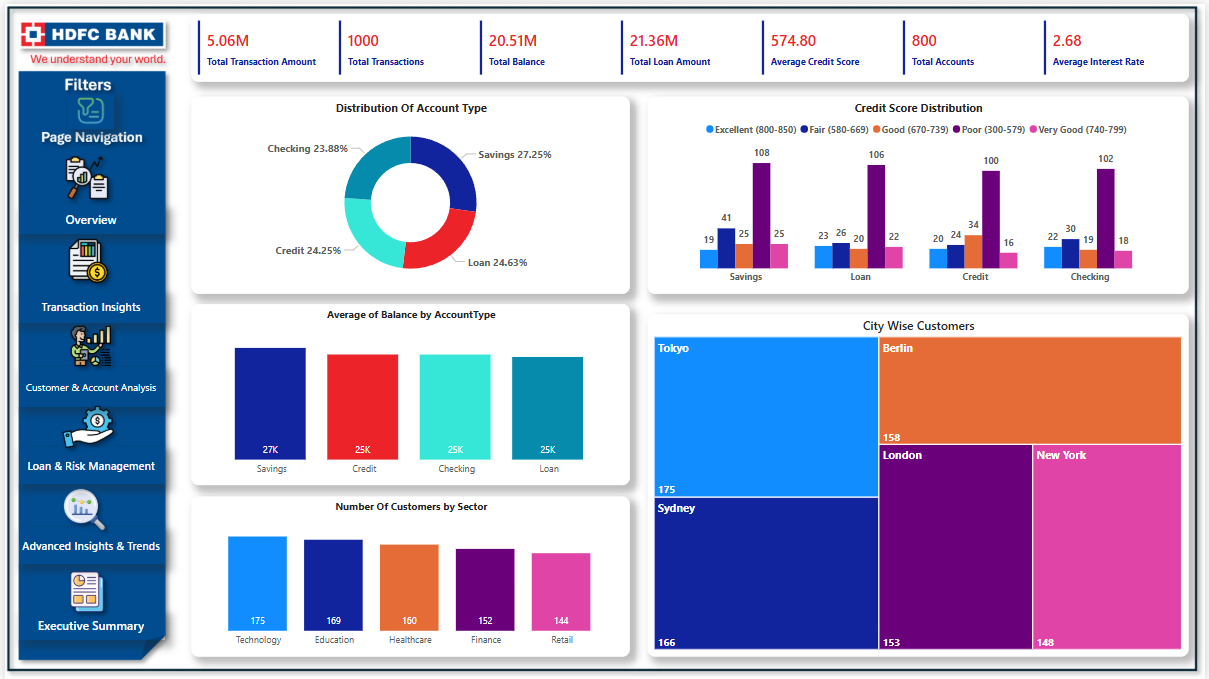

Layout of this report page (visuals, bound fields, positions):
{"tool":"powerbi","page":{"name":"Customer & Account Analysis","canvas":[1600,900],"ordinal":3},"visuals":[{"type":"cardVisual","fields":{"Data":["All Measures.Total Transaction Amount","All Measures.Total Transactions","All Measures.Total Balance","All Measures.Total Loan Amount","All Measures.Average Credit Score","All Measures.Total Accounts","All Measures.Average Interest Rate"]},"box":[248.3,13.3,1330,90],"z":0},{"type":"donutChart","title":"Distribution Of Account Type","fields":{"Category":["customer_account_details.AccountType"],"Y":["CountNonNull(customer_account_details.AccountNumber)"]},"box":[248.3,123.3,585,263.3],"z":1000},{"type":"clusteredColumnChart","title":"Credit Score Distribution","fields":{"Category":["customer_account_details.AccountType"],"Series":["customer_account_details.Credit Score Category"],"Y":["CountNonNull(customer_account_details.AccountNumber)"]},"box":[856.7,123.3,721.7,263.3],"z":2000},{"type":"columnChart","fields":{"Y":["Avg(customer_account_details.Balance)"],"Category":["customer_account_details.AccountType"]},"box":[248.3,400,585,241.7],"z":3000},{"type":"treemap","title":"City Wise Customers","fields":{"Group":["customer_account_details.City"],"Values":["CountNonNull(customer_account_details.AccountNumber)"]},"box":[856.7,413.3,721.7,456.7],"z":4000},{"type":"columnChart","title":"Number Of Customers by Sector","fields":{"Series":["customer_account_details.Sector"],"Y":["CountNonNull(customer_account_details.AccountNumber)"],"Category":["customer_account_details.Sector"]},"box":[248.3,656.7,585,213.3],"z":5000},{"type":"pageNavigator","box":[16.7,268.3,196.7,38.3],"z":6000},{"type":"pageNavigator","box":[16.7,381.7,196.7,43.3],"z":7000},{"type":"pageNavigator","box":[16.7,483.3,196.7,53.3],"z":8000},{"type":"pageNavigator","box":[16.7,590,196.7,50],"z":9000},{"type":"pageNavigator","box":[16.7,696.7,196.7,50],"z":10000},{"type":"pageNavigator","box":[16.7,808.3,196.7,40],"z":11000},{"type":"image","title":"Filter Button","box":[83.3,118.3,61.7,48.3],"z":12501}]}

Visuals, with their boxes in screenshot pixels (x1, y1, x2, y2), scaled from the page's 1600x900 canvas onto the 1209x679 screenshot:
cardVisual - All Measures.Total Transaction Amount x All Measures.Total Transactions: <box>188,10,1193,78</box>
"Distribution Of Account Type" donutChart: <box>188,93,630,292</box>
"Credit Score Distribution" clusteredColumnChart: <box>647,93,1193,292</box>
columnChart - Avg(customer_account_details.Balance) x customer_account_details.AccountType: <box>188,302,630,484</box>
"City Wise Customers" treemap: <box>647,312,1193,656</box>
"Number Of Customers by Sector" columnChart: <box>188,495,630,656</box>
pageNavigator: <box>13,202,161,231</box>
pageNavigator: <box>13,288,161,321</box>
pageNavigator: <box>13,365,161,405</box>
pageNavigator: <box>13,445,161,483</box>
pageNavigator: <box>13,526,161,563</box>
pageNavigator: <box>13,610,161,640</box>
"Filter Button" image: <box>63,89,110,126</box>
